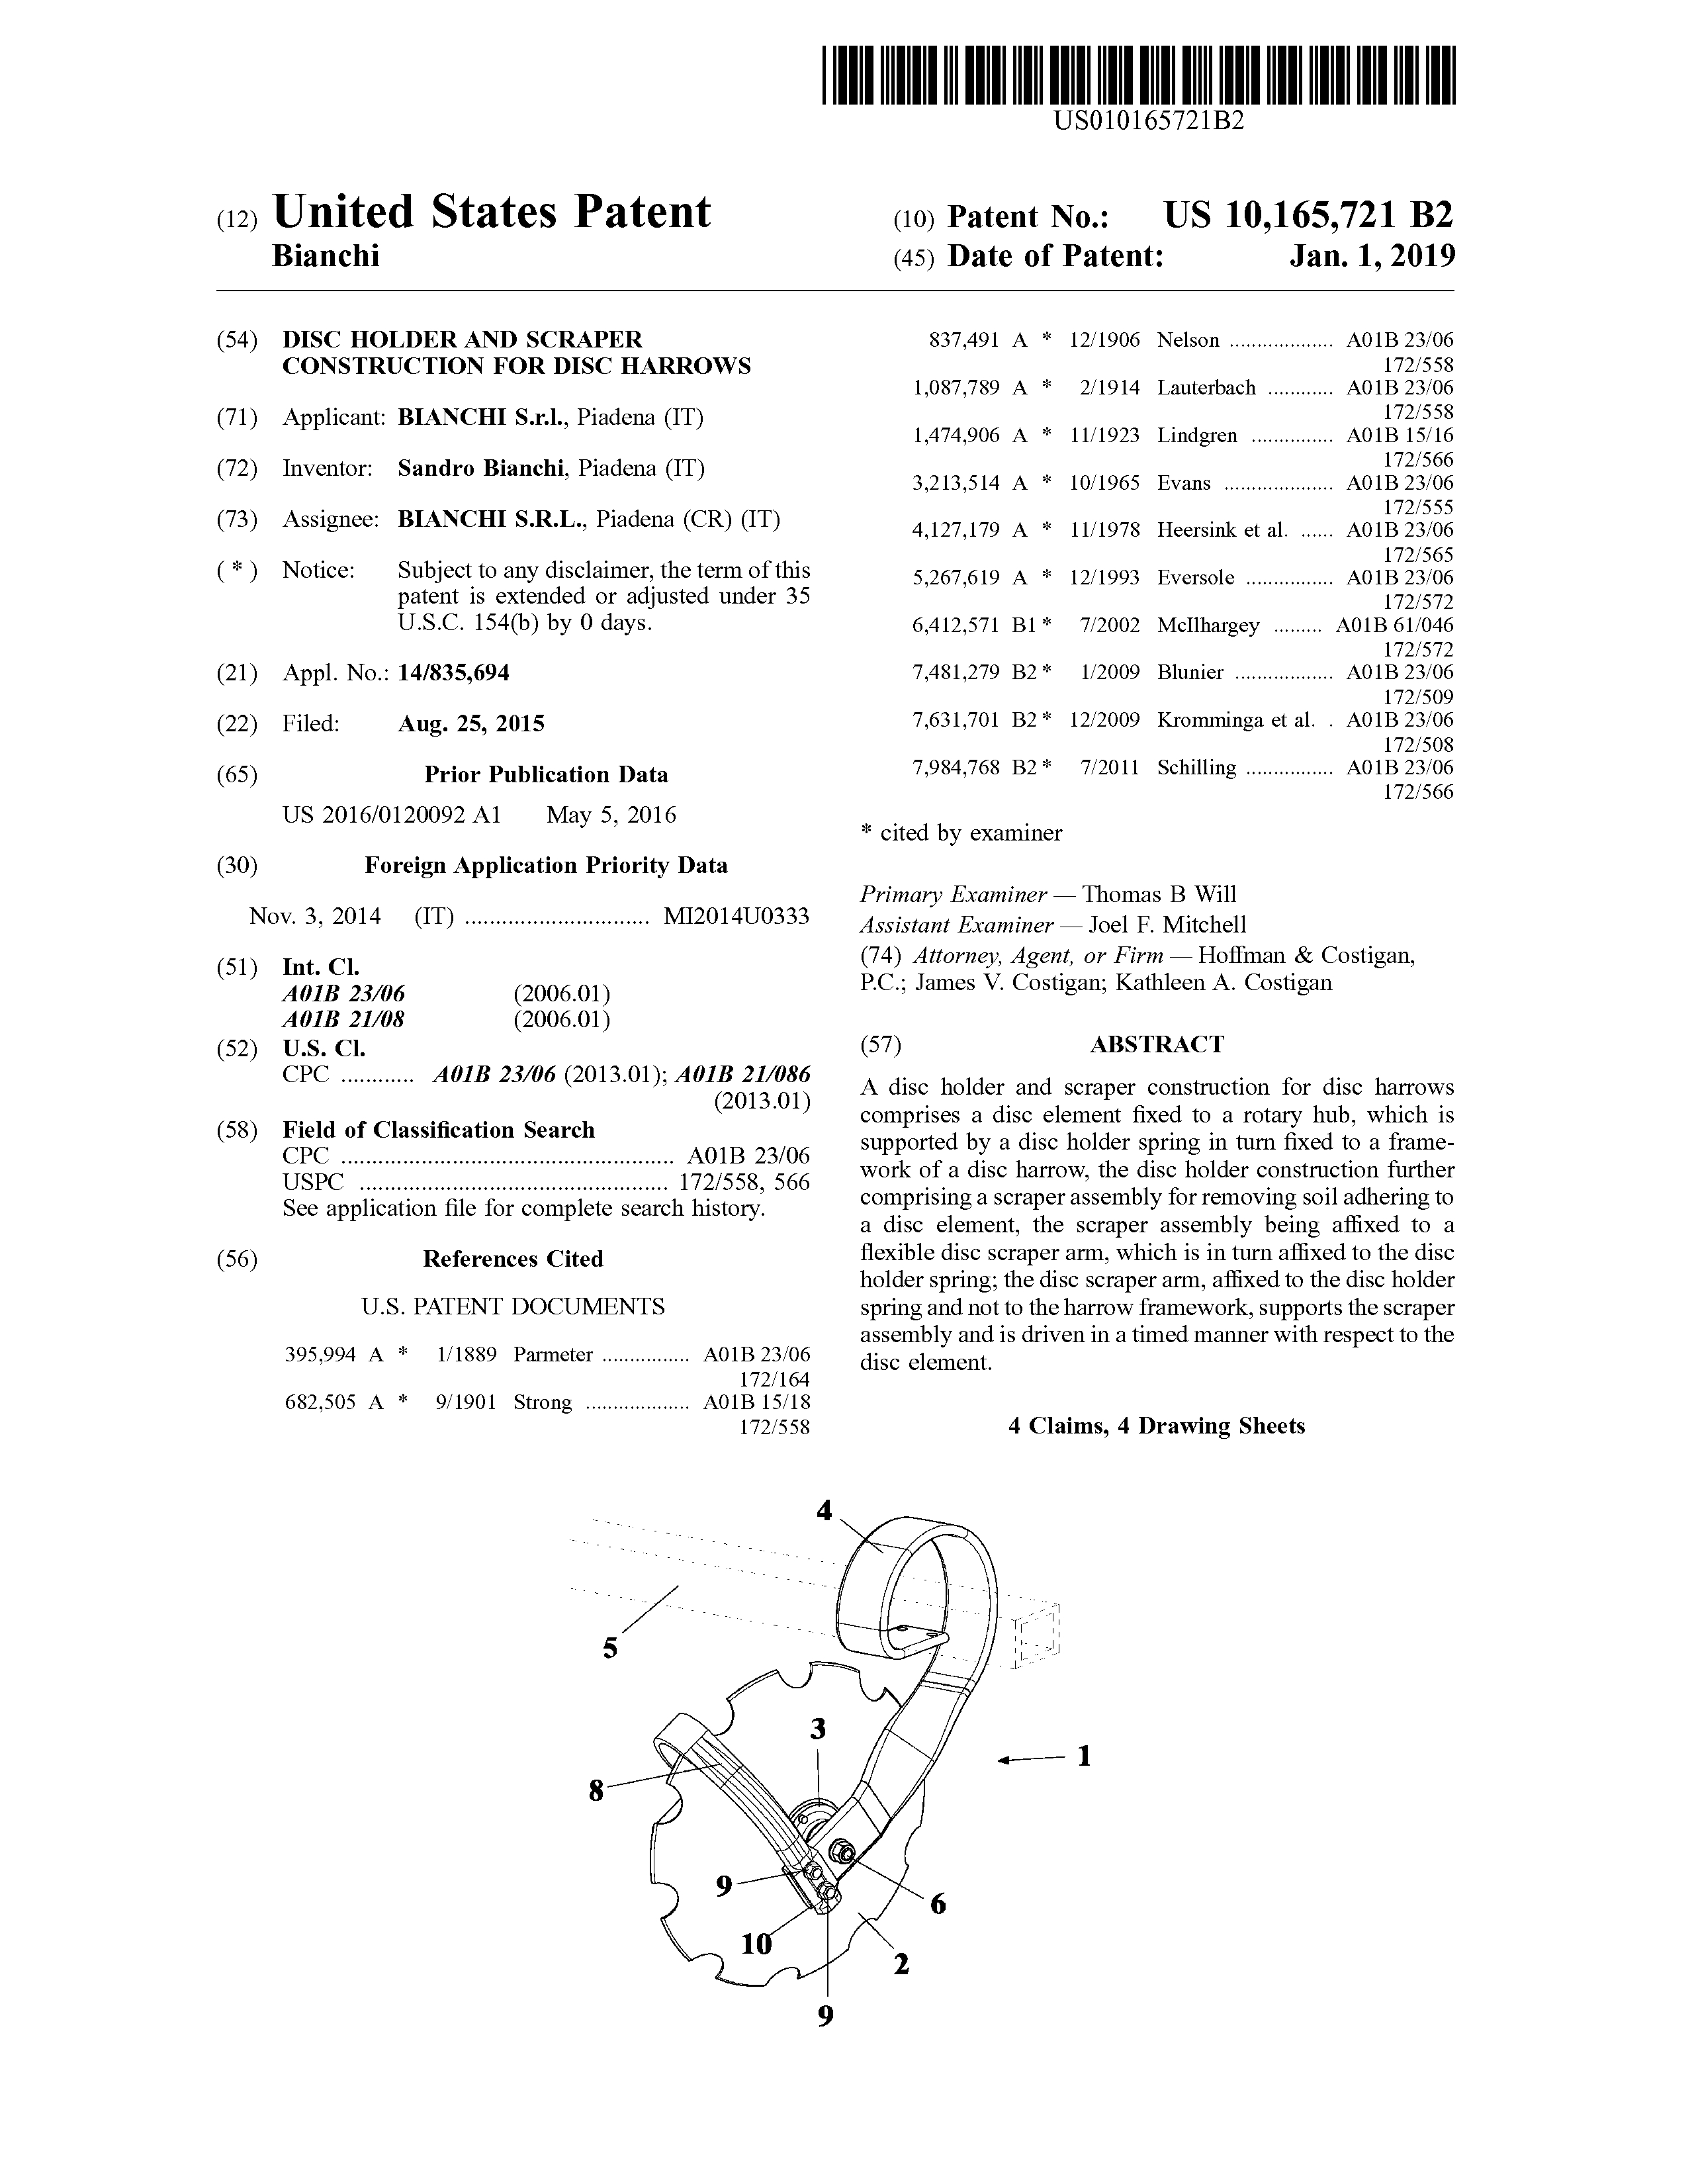patent image: (549, 1479, 1124, 2054)
